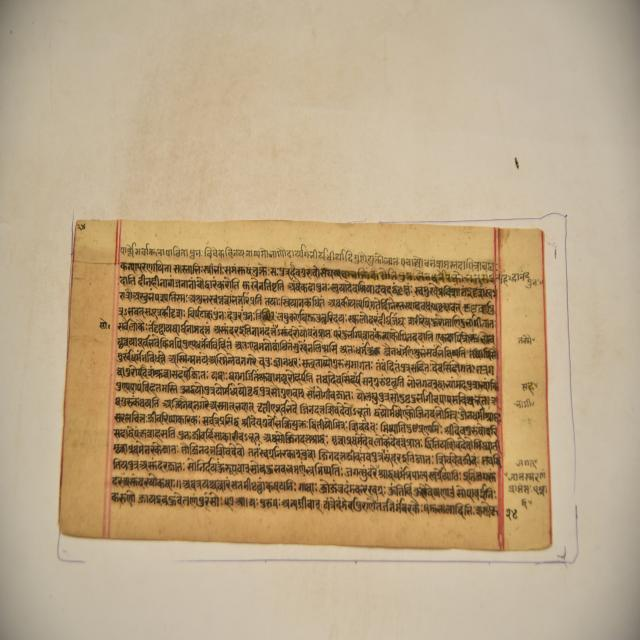text_paragraph: (58, 218, 550, 549)
